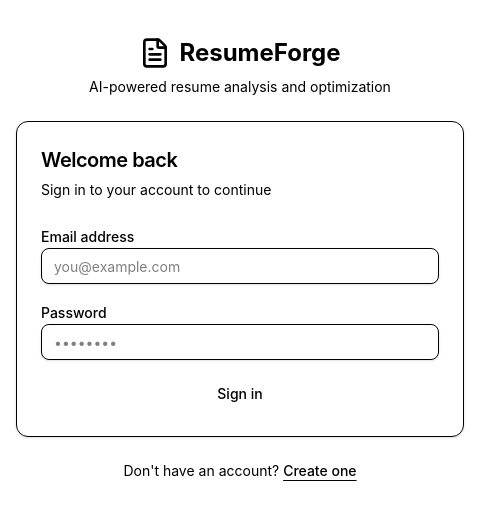
Test case: Login page › shows validation errors for empty fields on submit
What coordinates should you click on to do the following:
click the button "Sign in"
I would click on:
 (240, 394)
Its box is [41, 376, 439, 412].
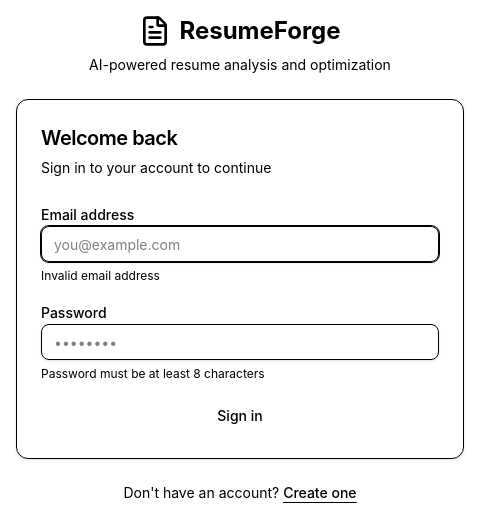
Result: the message "Invalid email address" is shown at [41, 268, 160, 283]
